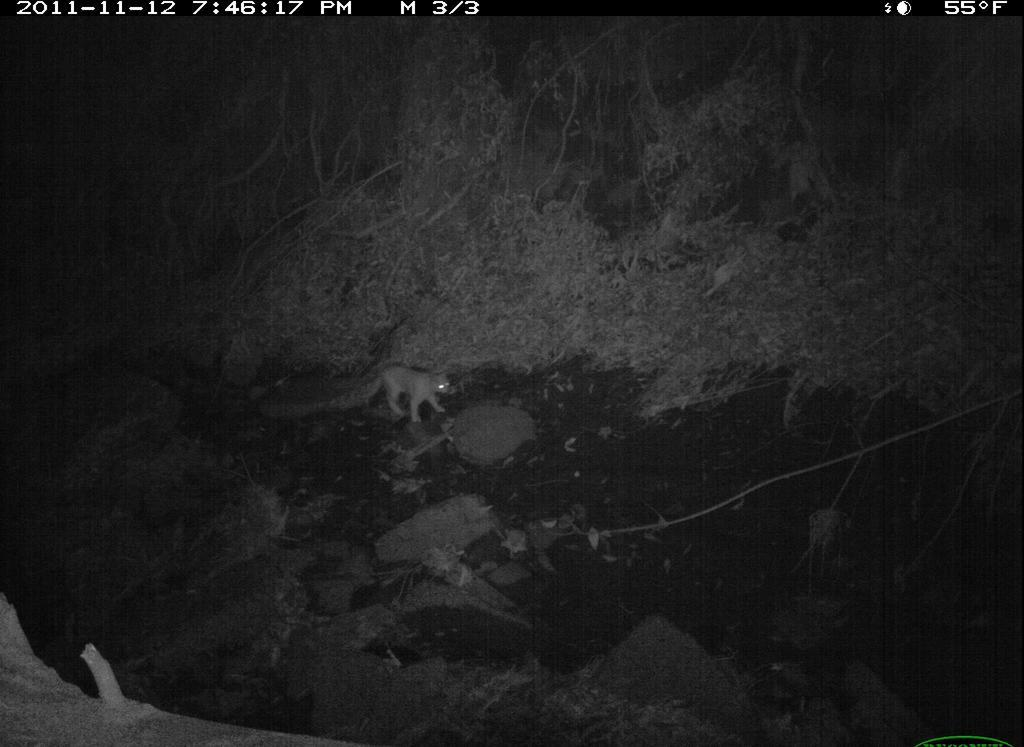cat: (353, 350, 456, 429)
